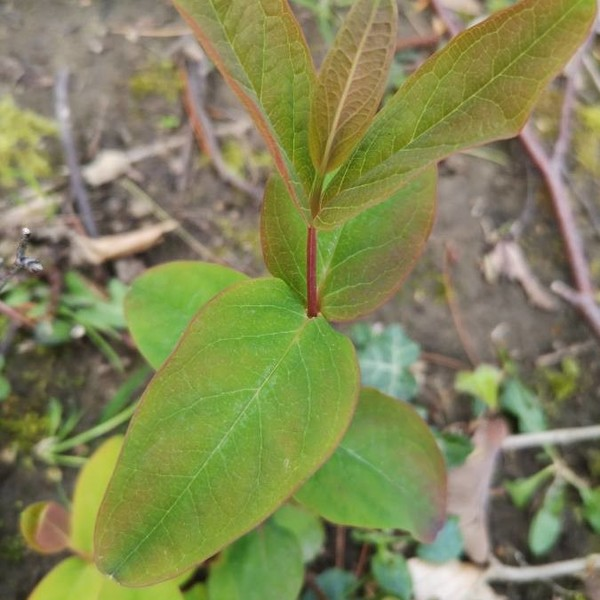obstacle: (110, 1, 520, 570)
